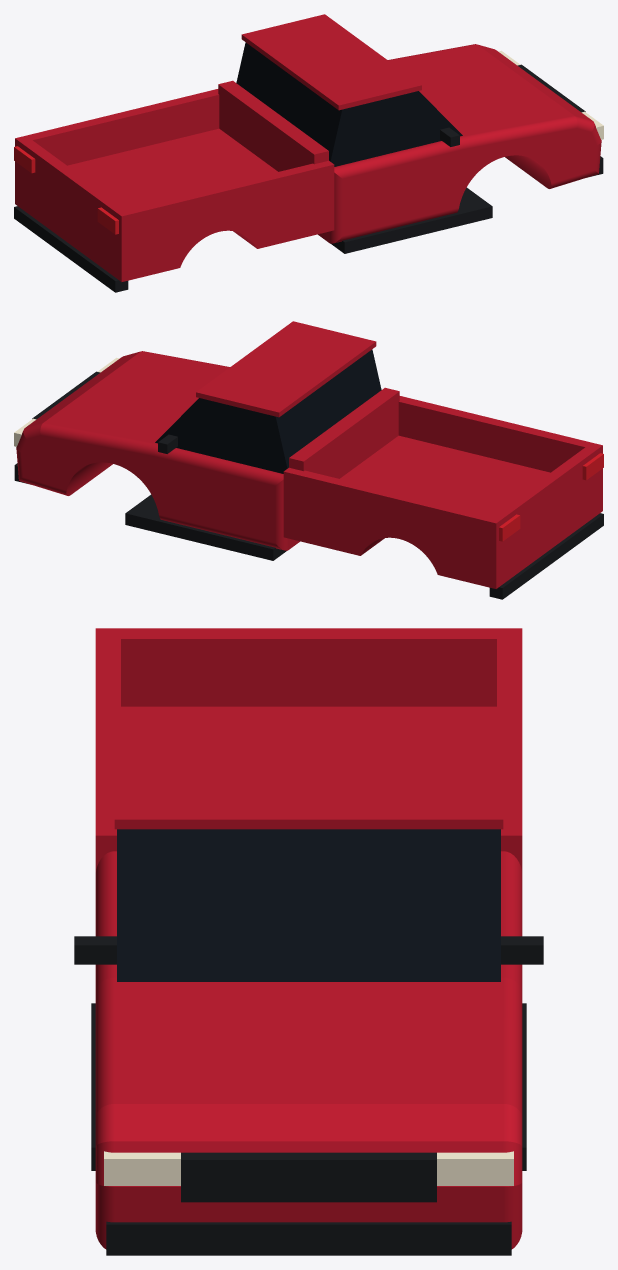
The model's file is pickup.glb.
3 views of the same model, one above another, from view 1: azimuth 30°, elevation 25°; view 2: azimuth 150°, elevation 25°; view 3: azimuth 270°, elevation 25° (orthographic). The views are drawn at different scales.
Parts seen in each view (by area): view 1: Body, BodyX0, Glass, Roof, BodyX2, BodyX1, BodyX4, BodyX3, Trim3, Trim2; view 2: Body, BodyX0, Glass, Roof, BodyX1, BodyX2, BodyX4, BodyX3, Trim3, Trim2; view 3: Body, Glass, Roof, BodyX3, Trim0, Trim1, BodyX0, BodyX2, BodyX1, Head0, Head1, Trim3 (+2 smaller).
Boxes of the visible parts, x1,y1,x2,y2 form: Body: [318, 44, 601, 243]; BodyX0: [15, 128, 334, 281]; Glass: [236, 42, 462, 166]; Roof: [241, 14, 421, 110]; BodyX2: [117, 160, 334, 249]; BodyX1: [17, 89, 219, 165]; BodyX4: [218, 80, 328, 171]; BodyX3: [15, 136, 132, 249]; Trim3: [331, 187, 492, 253]; Trim2: [14, 206, 128, 292]; Body: [16, 351, 299, 550]; BodyX0: [283, 435, 602, 588]; Glass: [155, 349, 381, 473]; Roof: [196, 321, 376, 417]; BodyX1: [283, 467, 500, 556]; BodyX2: [398, 396, 600, 472]; BodyX4: [289, 387, 399, 478]; BodyX3: [485, 443, 602, 556]; Trim3: [125, 494, 286, 560]; Trim2: [489, 513, 603, 599]; Body: [95, 851, 522, 1249]; Glass: [117, 829, 500, 981]; Roof: [114, 738, 503, 829]; BodyX3: [95, 628, 522, 706]; Trim0: [106, 1221, 511, 1255]; Trim1: [181, 1152, 436, 1202]; BodyX0: [121, 706, 496, 738]; BodyX2: [95, 630, 120, 871]; BodyX1: [497, 630, 522, 871]; Head0: [437, 1151, 513, 1185]; Head1: [104, 1151, 180, 1185]; Trim3: [91, 1003, 526, 1170].
Size of the model in its own units: 5.29 by 1.49 by 2.2.
